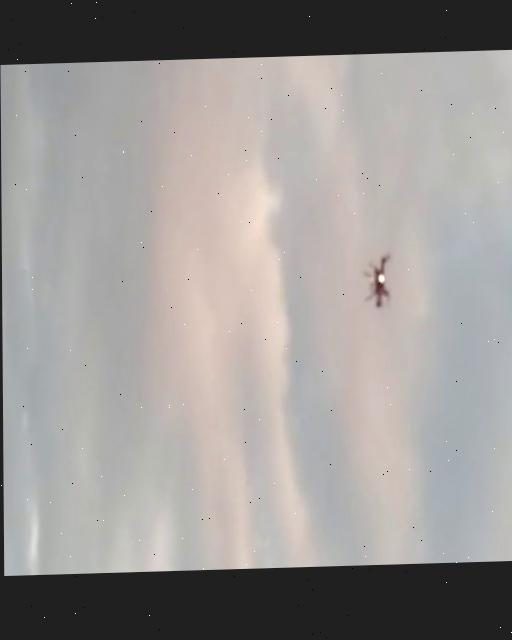drone: (364, 250, 398, 315)
